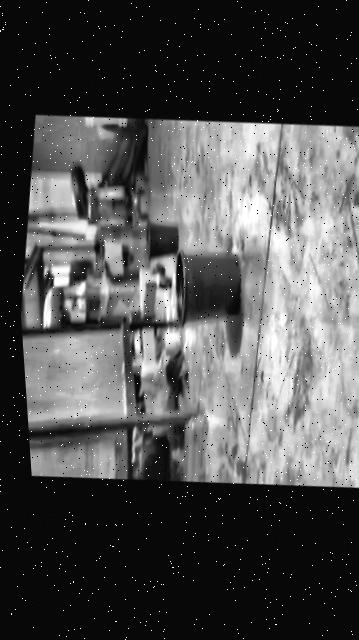pot: (163, 243, 247, 336), (140, 218, 180, 266)
